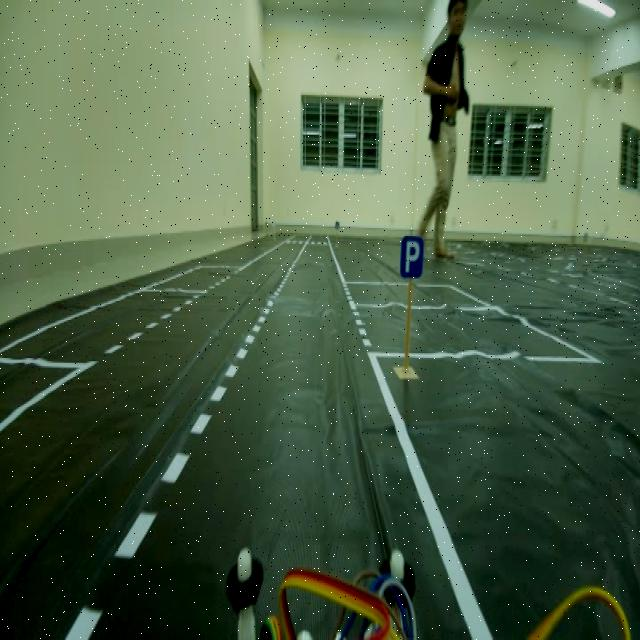parking: (394, 228, 426, 284)
